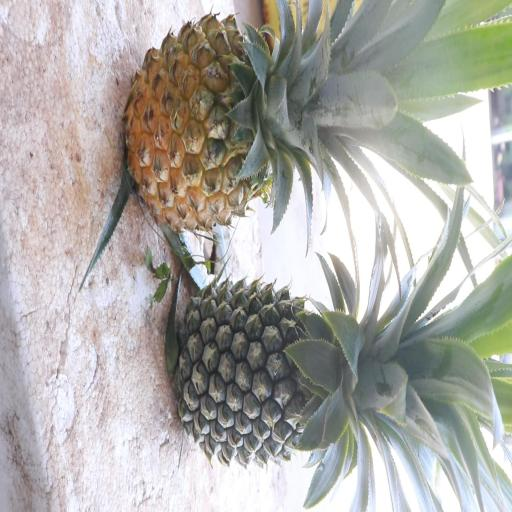Pineapple - v8 v1: (124, 23, 425, 224)
